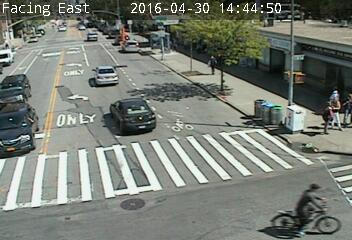neg: (284, 175, 327, 232), (161, 105, 193, 147), (115, 183, 145, 224), (101, 94, 129, 132), (281, 47, 309, 85), (46, 24, 73, 61), (52, 171, 79, 205), (233, 24, 259, 58), (35, 80, 60, 113), (175, 24, 200, 56), (21, 136, 41, 162), (159, 72, 177, 96), (97, 61, 114, 84), (111, 25, 127, 46)
pos: (312, 103, 335, 134), (324, 88, 346, 117), (204, 54, 220, 75)
